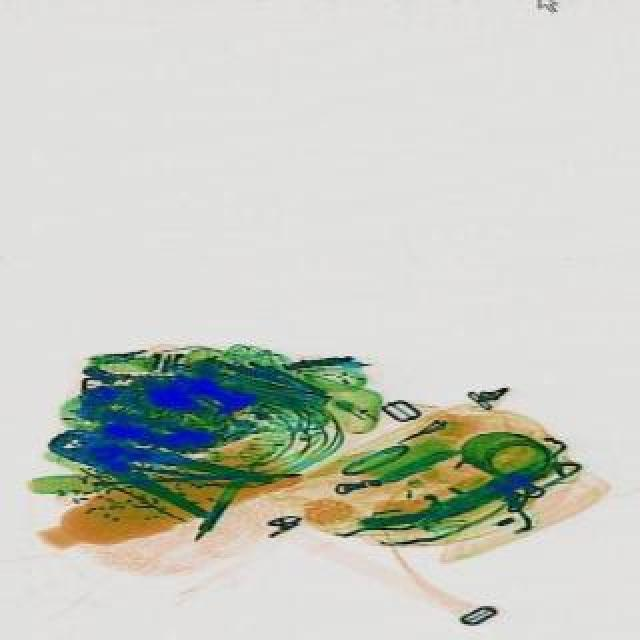wrench: (42, 398, 270, 534)
